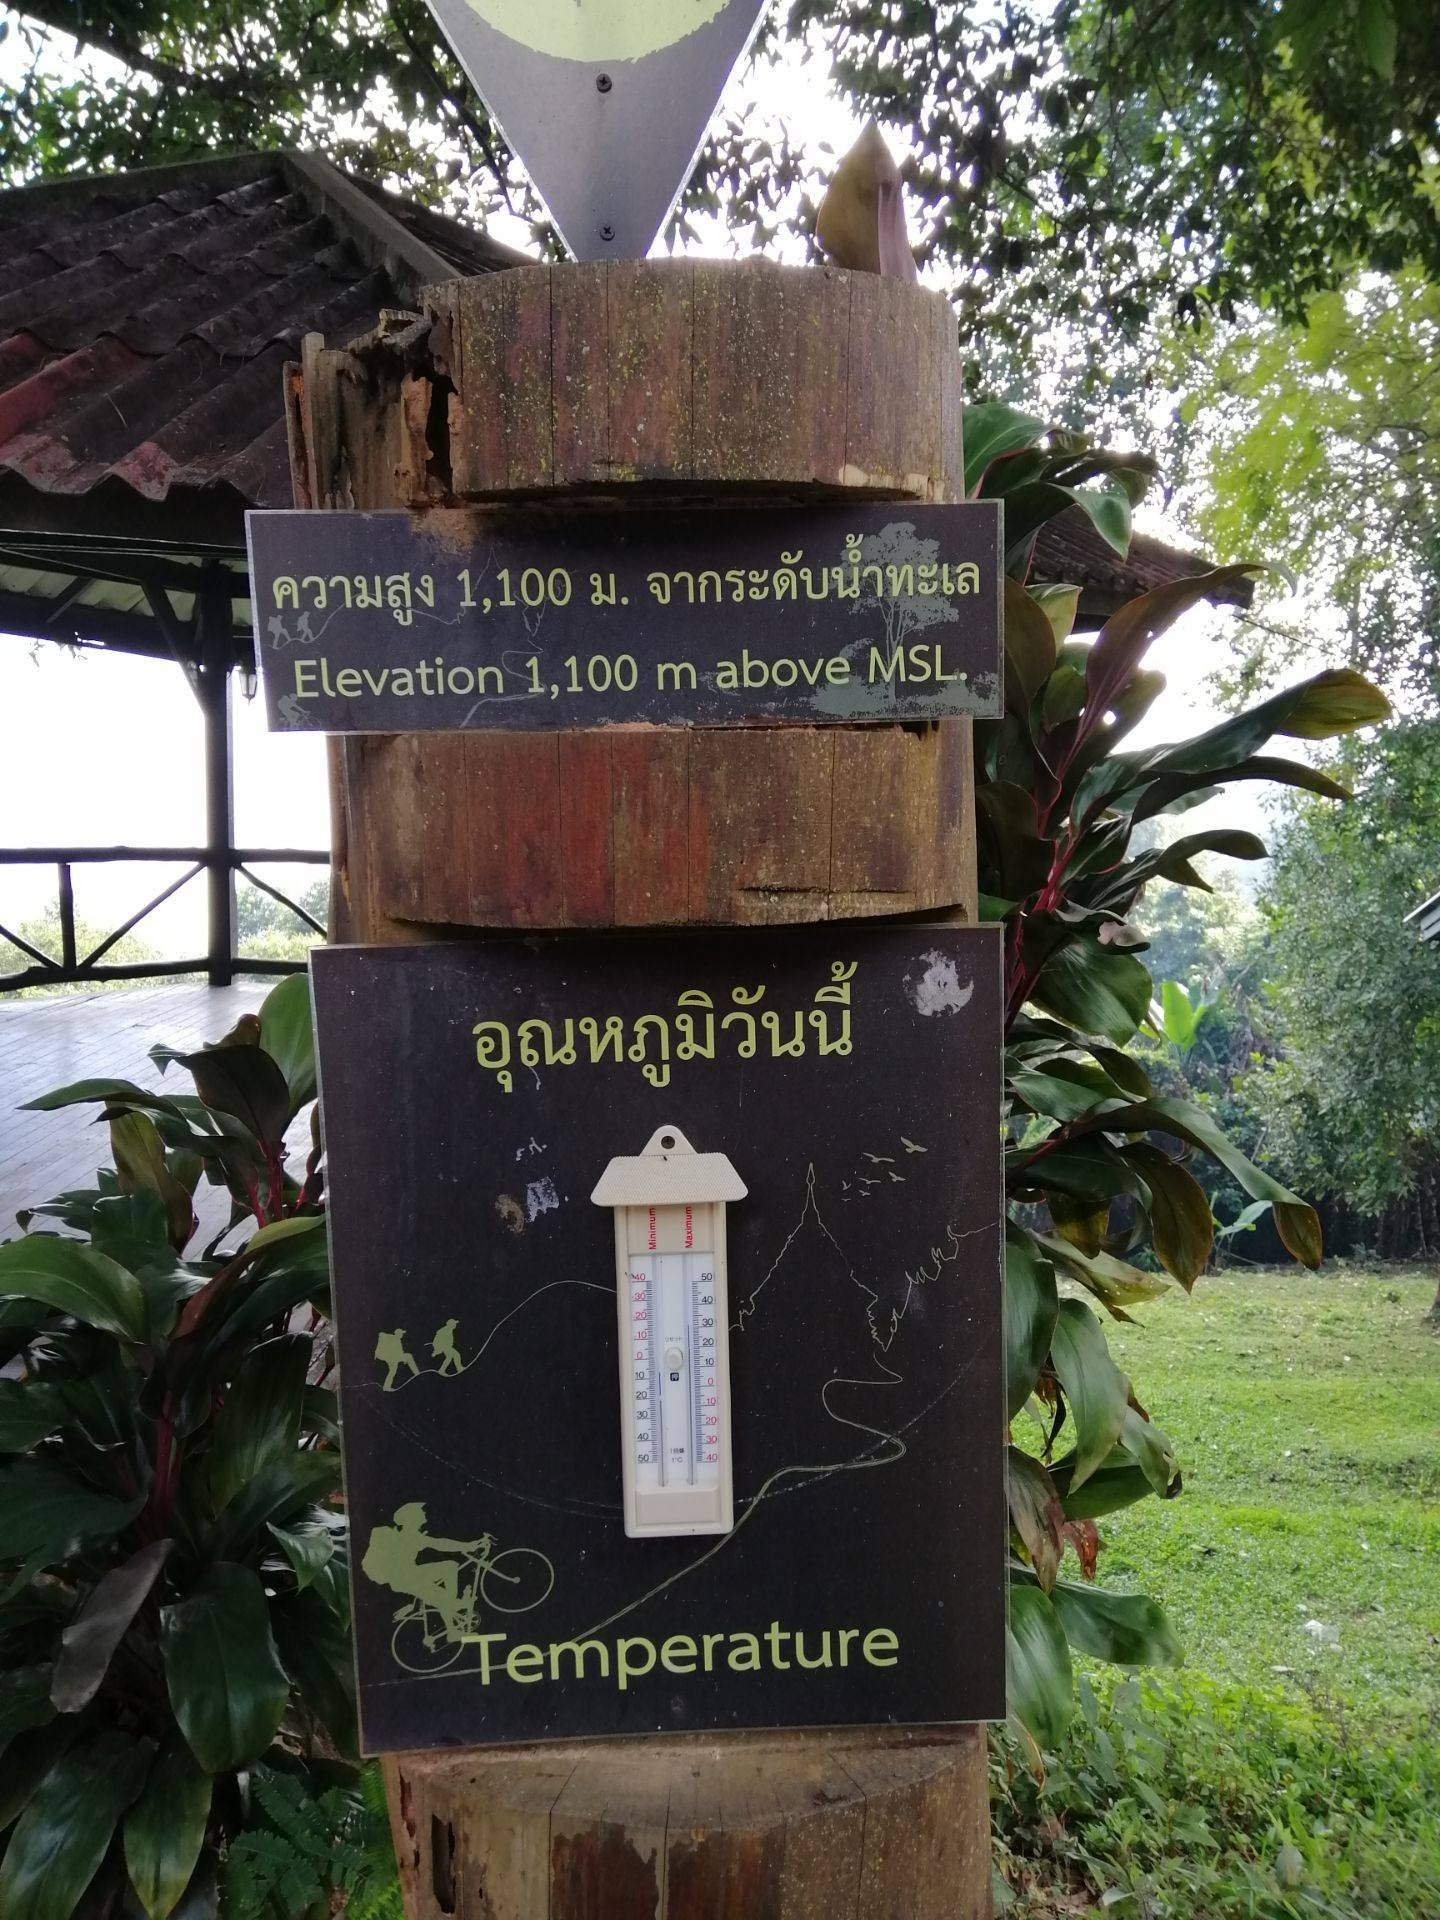text: (262, 547, 989, 633), (455, 981, 871, 1108), (290, 635, 964, 706), (455, 1607, 905, 1698), (687, 1281, 718, 1311), (700, 1346, 717, 1370), (700, 1411, 720, 1429), (634, 1448, 652, 1466), (699, 1312, 715, 1330), (700, 1392, 718, 1409), (703, 1429, 720, 1447), (700, 1333, 715, 1349), (703, 1448, 718, 1463), (632, 1346, 644, 1364), (632, 1308, 647, 1321), (697, 1270, 714, 1282), (629, 1270, 647, 1281), (632, 1288, 646, 1302), (634, 1327, 647, 1339), (703, 1373, 715, 1386)
